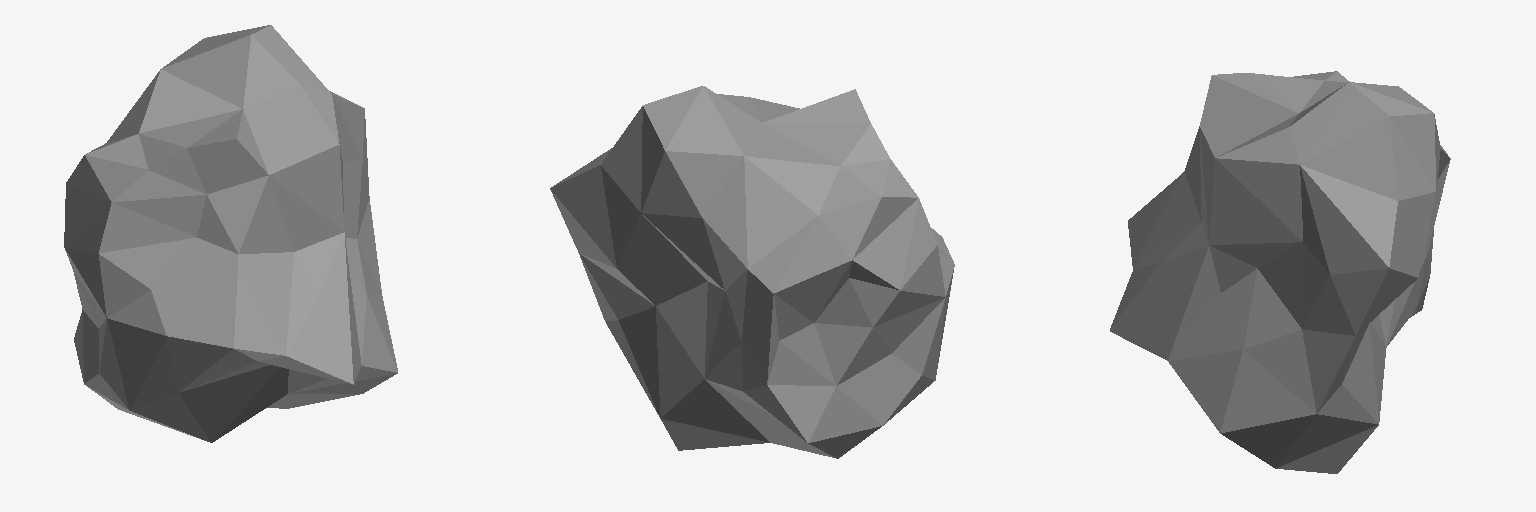
The model's file is asteroid2.obj.
The picture shows the model from 3 angles: view 1: azimuth 30°, elevation 25°; view 2: azimuth 150°, elevation 25°; view 3: azimuth 270°, elevation 25°; orthographic projection.
Parts seen in each view (by area): view 1: Meteor; view 2: Meteor; view 3: Meteor.
Boxes of the visible parts, box(x1,y1,x2,y2) form: Meteor: box(64, 25, 397, 442); Meteor: box(550, 86, 954, 458); Meteor: box(1110, 71, 1450, 473).
Bounding box in the file's own units: 8.26 × 9.1 × 7.47.